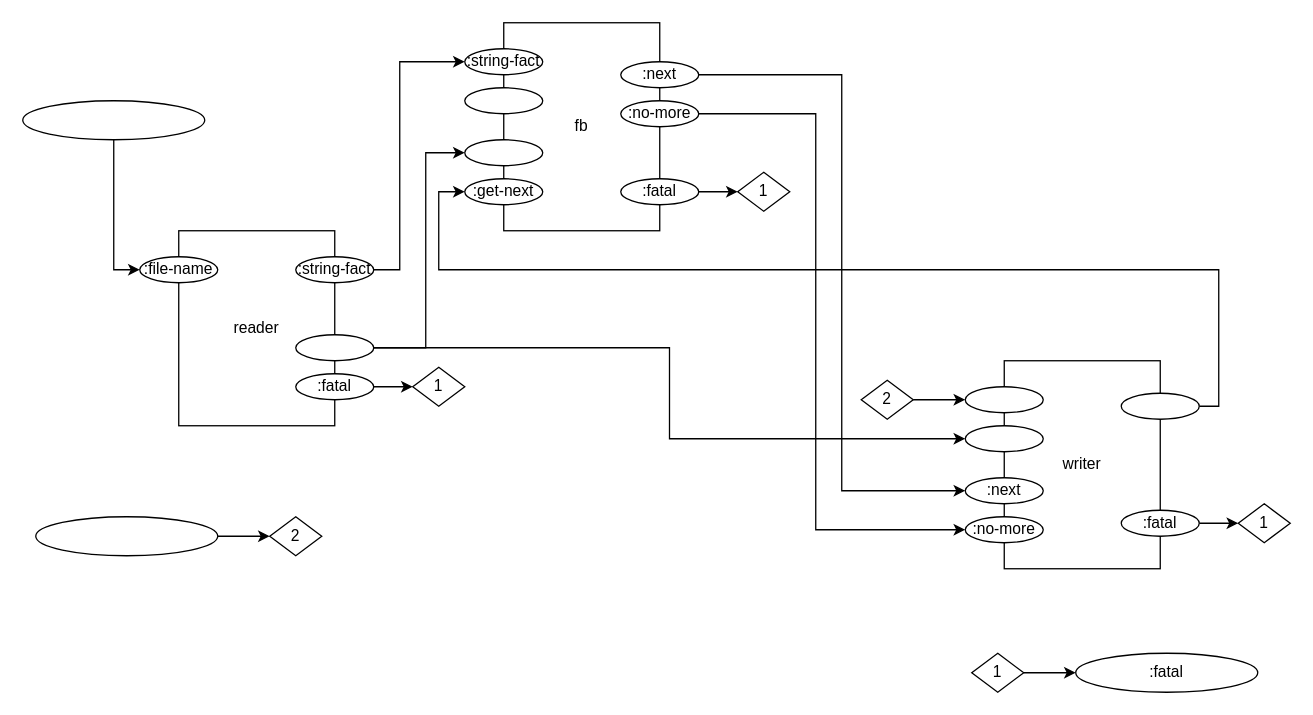
Some shapes in this 1313 by 715 pixel diagram are drawn without their labels. Here are the shapes that lost their labels. From the top down, the centre of each, then its label:
(x=113, y=119): :prolog-factbase-filename
(x=503, y=100): :lisp-fact
(x=503, y=152): :iterate
(x=334, y=347): :eof
(x=1003, y=399): :filename
(x=1159, y=405): :request
(x=1003, y=438): :start
(x=126, y=535): :prolog-output-filename
